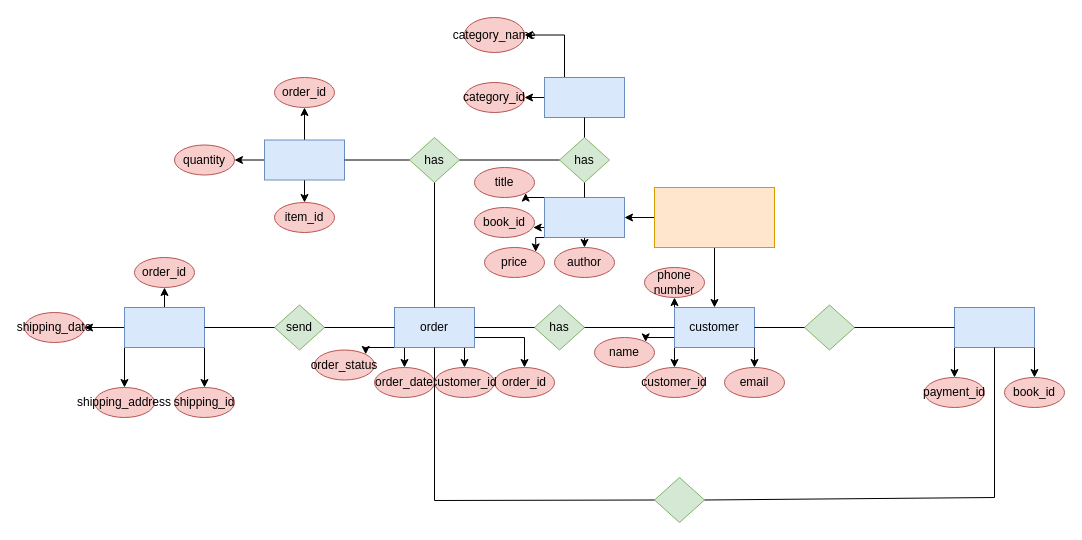
Image size: 1082x540. Some labels were removed from this diagram. Each missing label, with the centre of its shape:
book: the point at 584,217
bookstore: the point at 714,217
category: the point at 584,97
order_item(book): the point at 304,159
pay: the point at 829,327
payment: the point at 994,327
process: the point at 679,499
shipping: the point at 164,327
